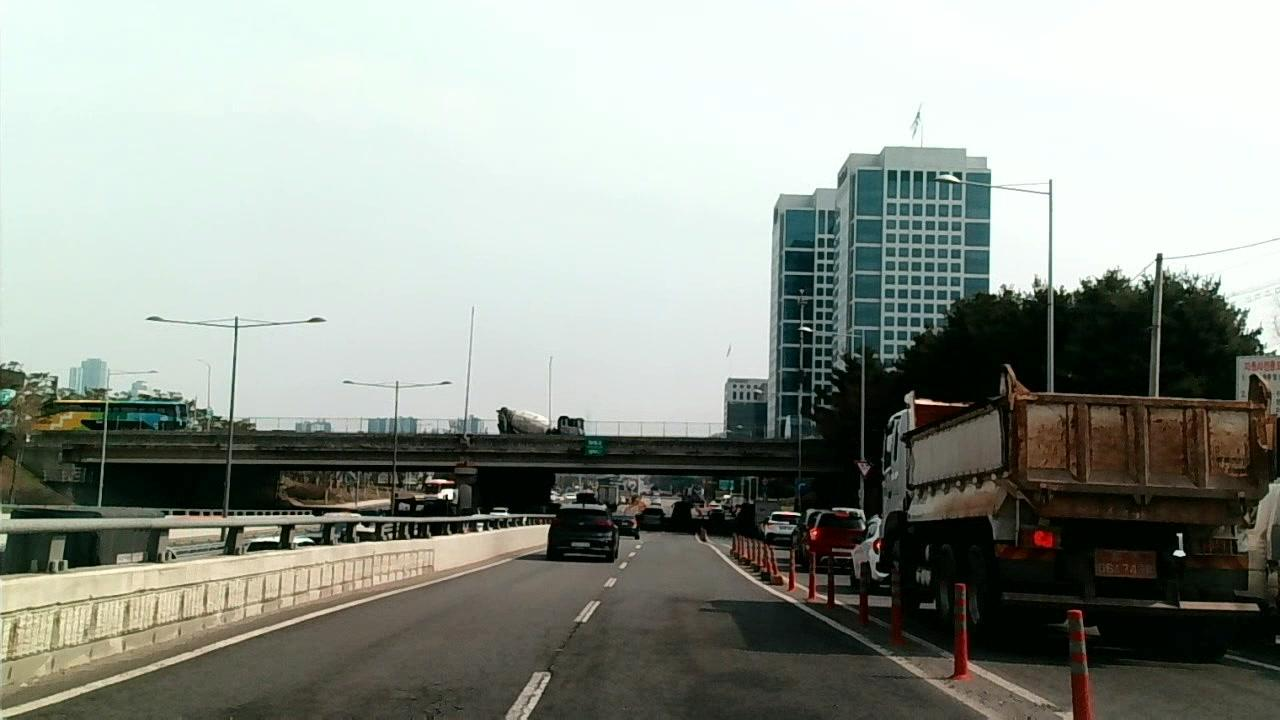erosion: (390, 683, 470, 720)
vcrack: (517, 621, 586, 720)
